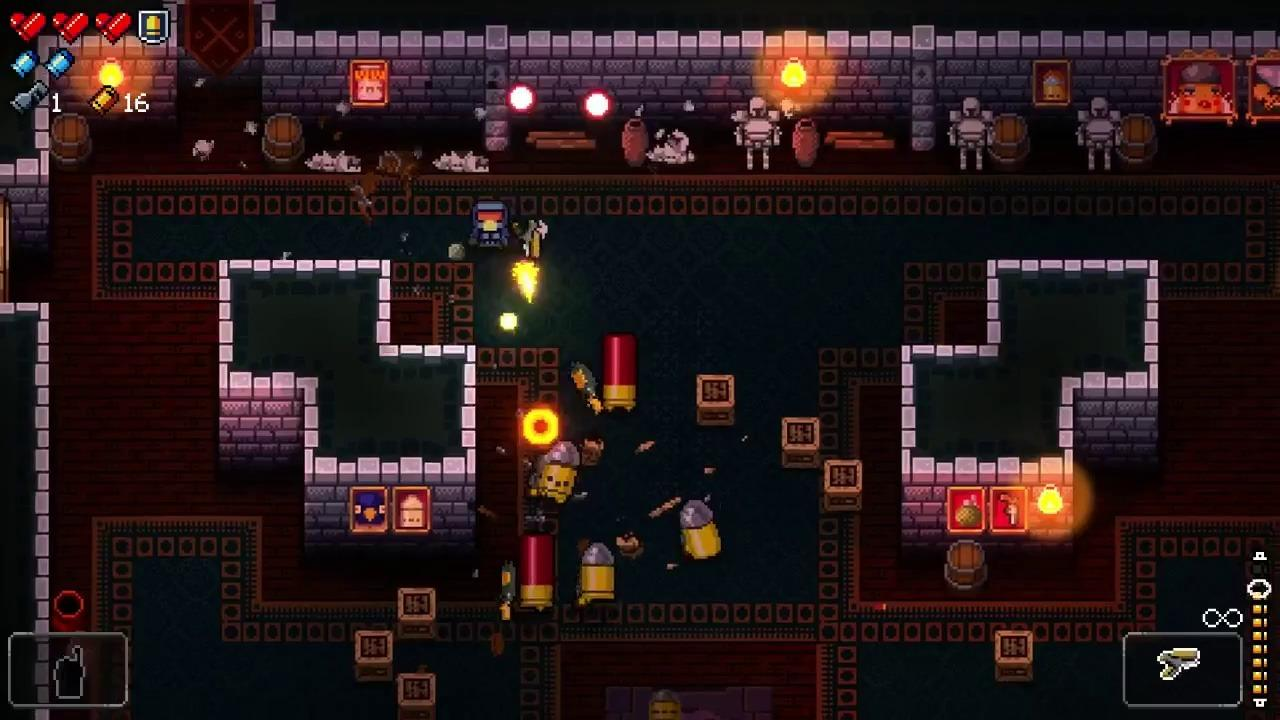blocked_door: (178, 0, 261, 95)
bullet: (583, 90, 612, 120), (508, 84, 536, 114)
bullet_kin: (540, 441, 580, 505), (680, 499, 722, 559), (582, 542, 616, 602), (649, 688, 681, 720)
player: (470, 202, 511, 251)
red_shotgun_kin: (600, 333, 637, 411), (520, 535, 554, 609)
